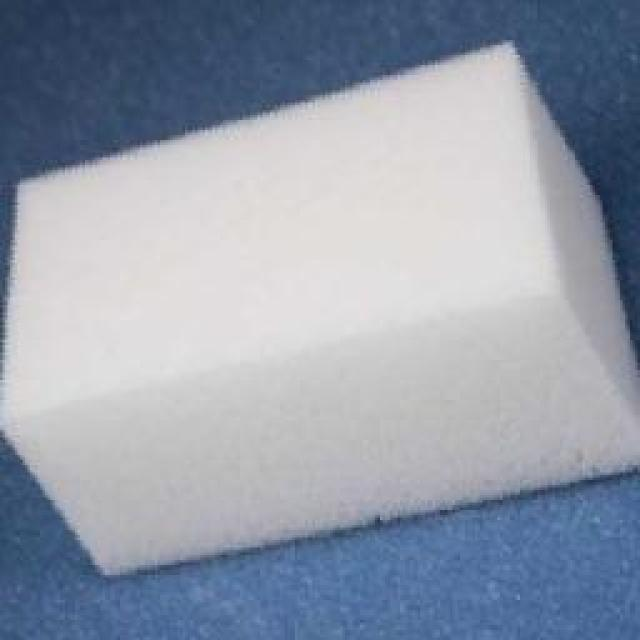Silgi: (2, 44, 640, 578)
